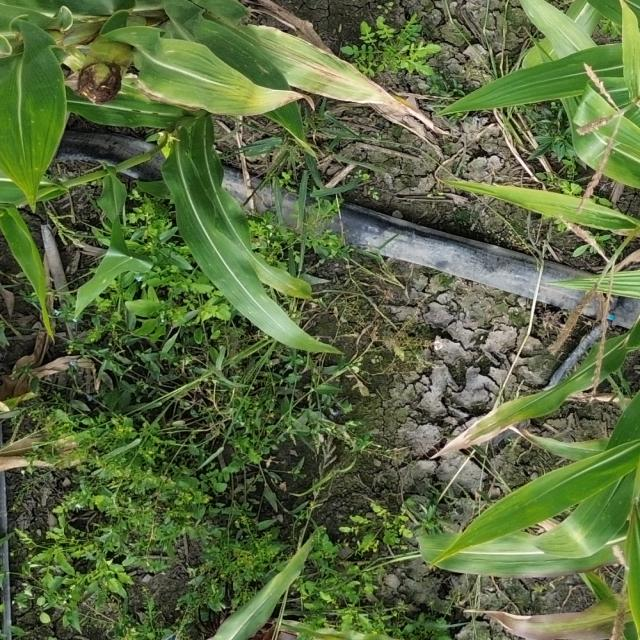northern-leaf-blight: (99, 38, 436, 134), (425, 389, 549, 477)
southern-leaf-blight: (208, 262, 298, 347)
